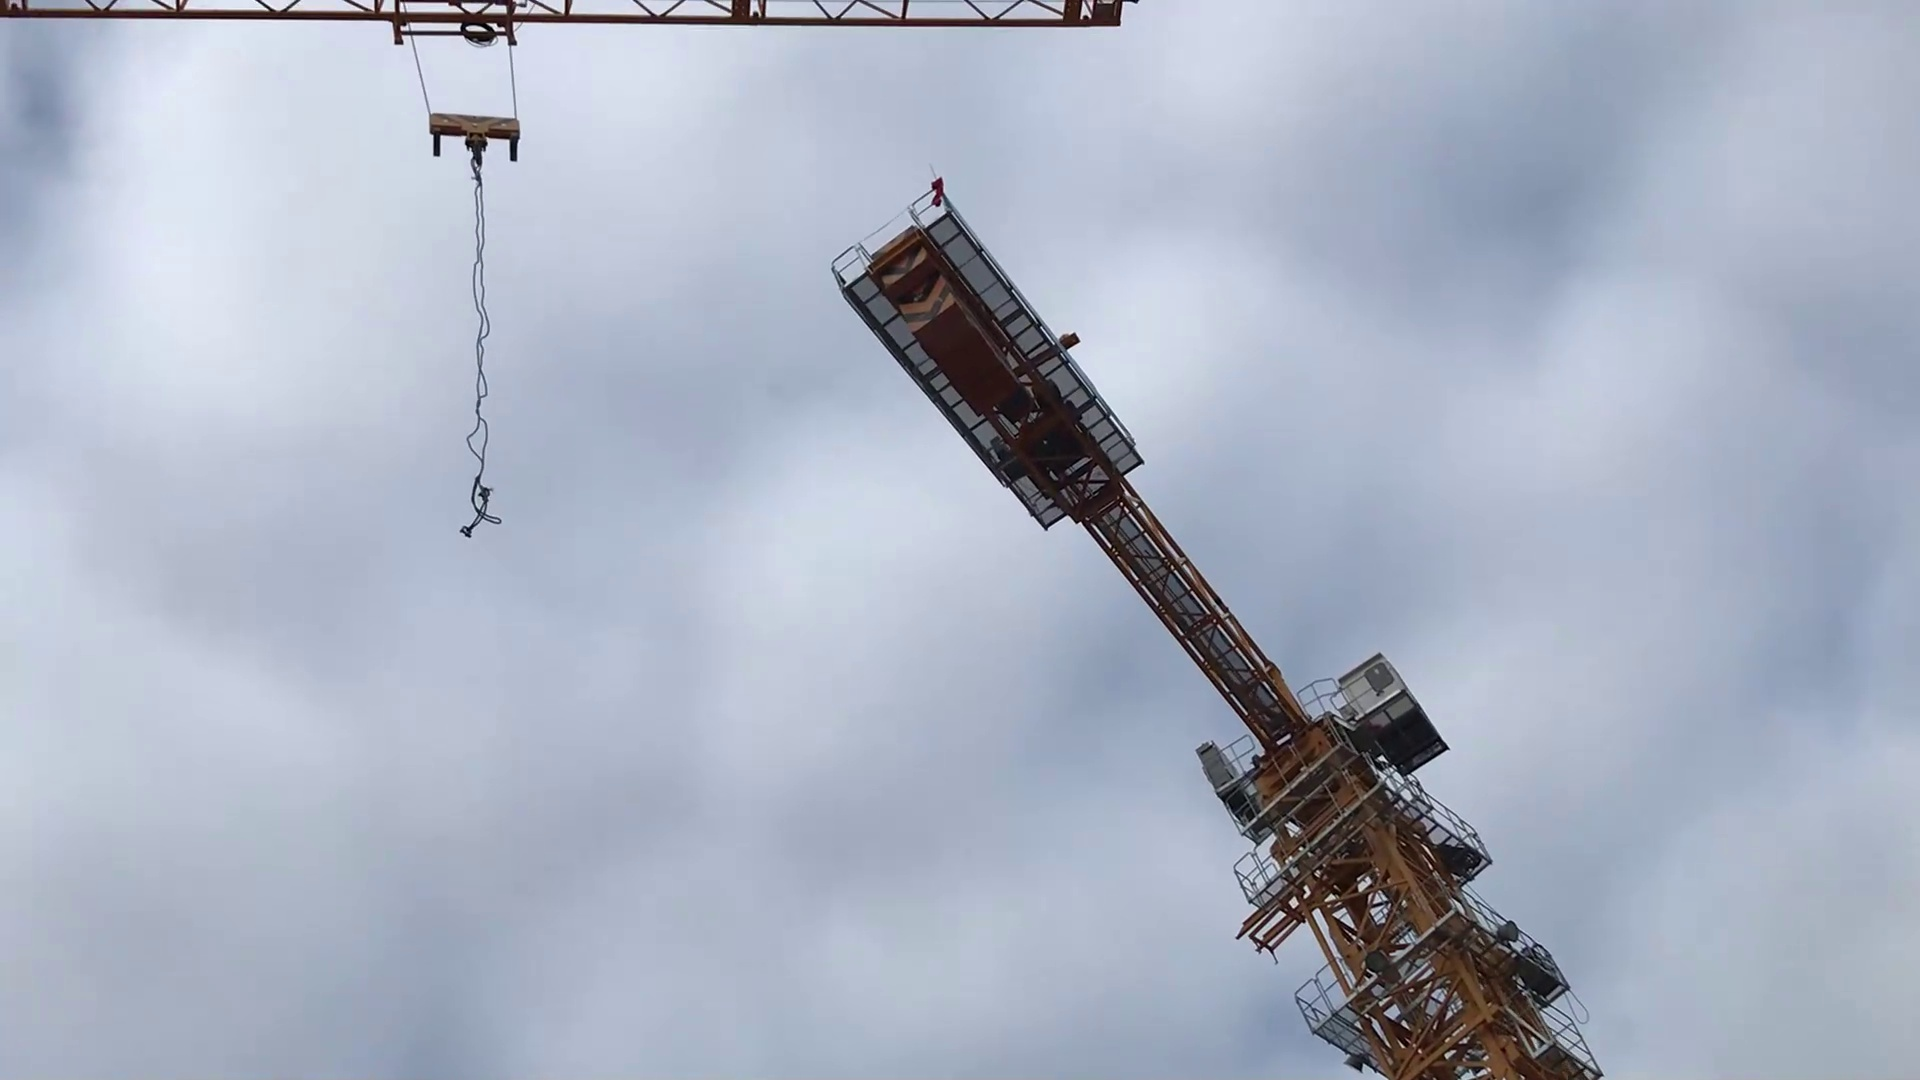hook: (425, 107, 524, 171)
